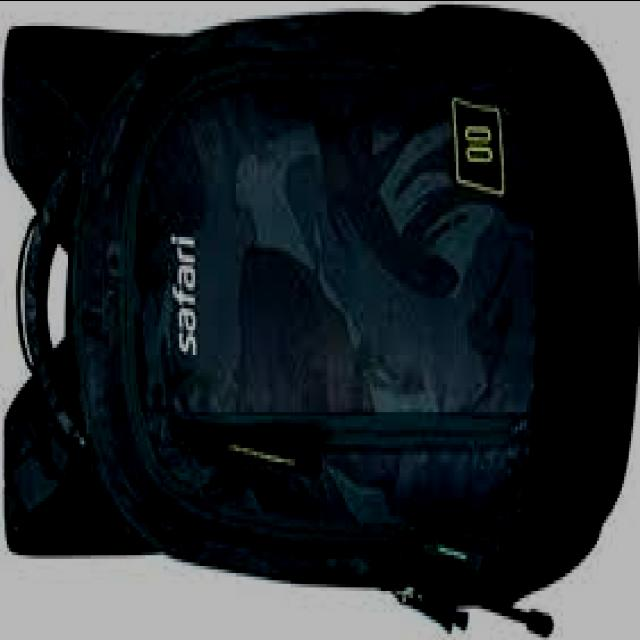backpack: (1, 8, 639, 640)
